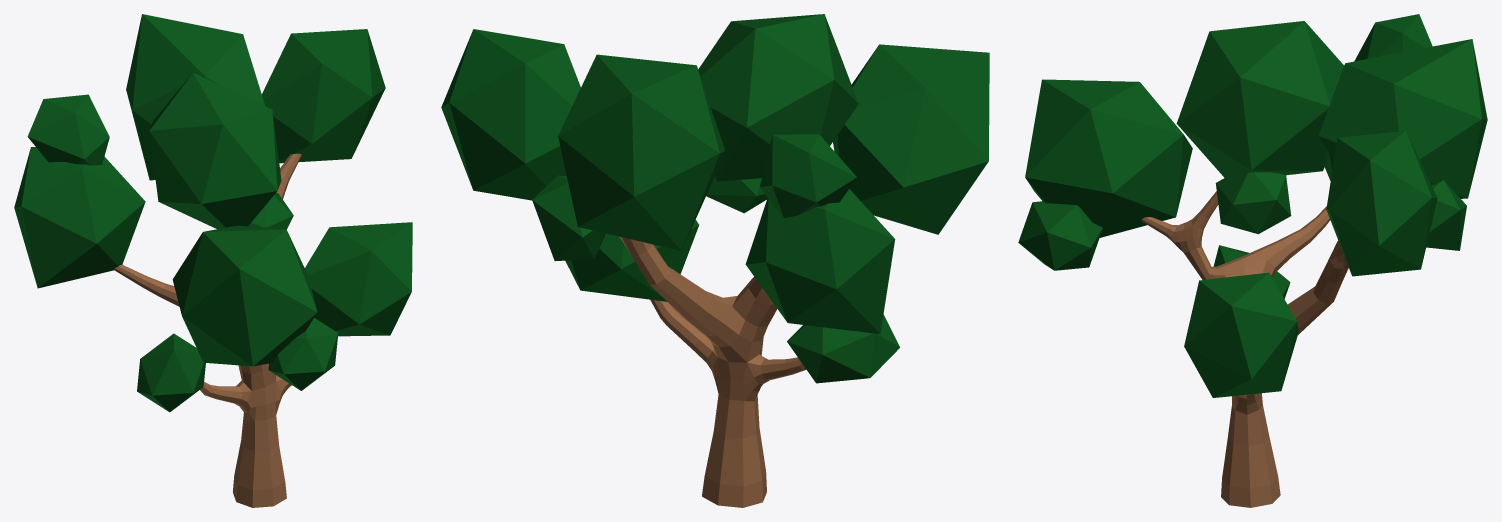
File: Tree_1.glb
The picture shows the model from 3 angles, left to right: view 1: azimuth 30°, elevation 25°; view 2: azimuth 150°, elevation 25°; view 3: azimuth 270°, elevation 25°; orthographic projection. The views are drawn at different scales.
Parts seen in each view (by area): view 1: Tree 1; view 2: Tree 1; view 3: Tree 1.
Boxes of the visible parts, x1,y1,x2,y2 form: Tree 1: (14, 14, 412, 507); Tree 1: (441, 14, 989, 507); Tree 1: (1018, 14, 1487, 507).
Bounding box in the file's own units: 1.39 × 1.49 × 1.39.
